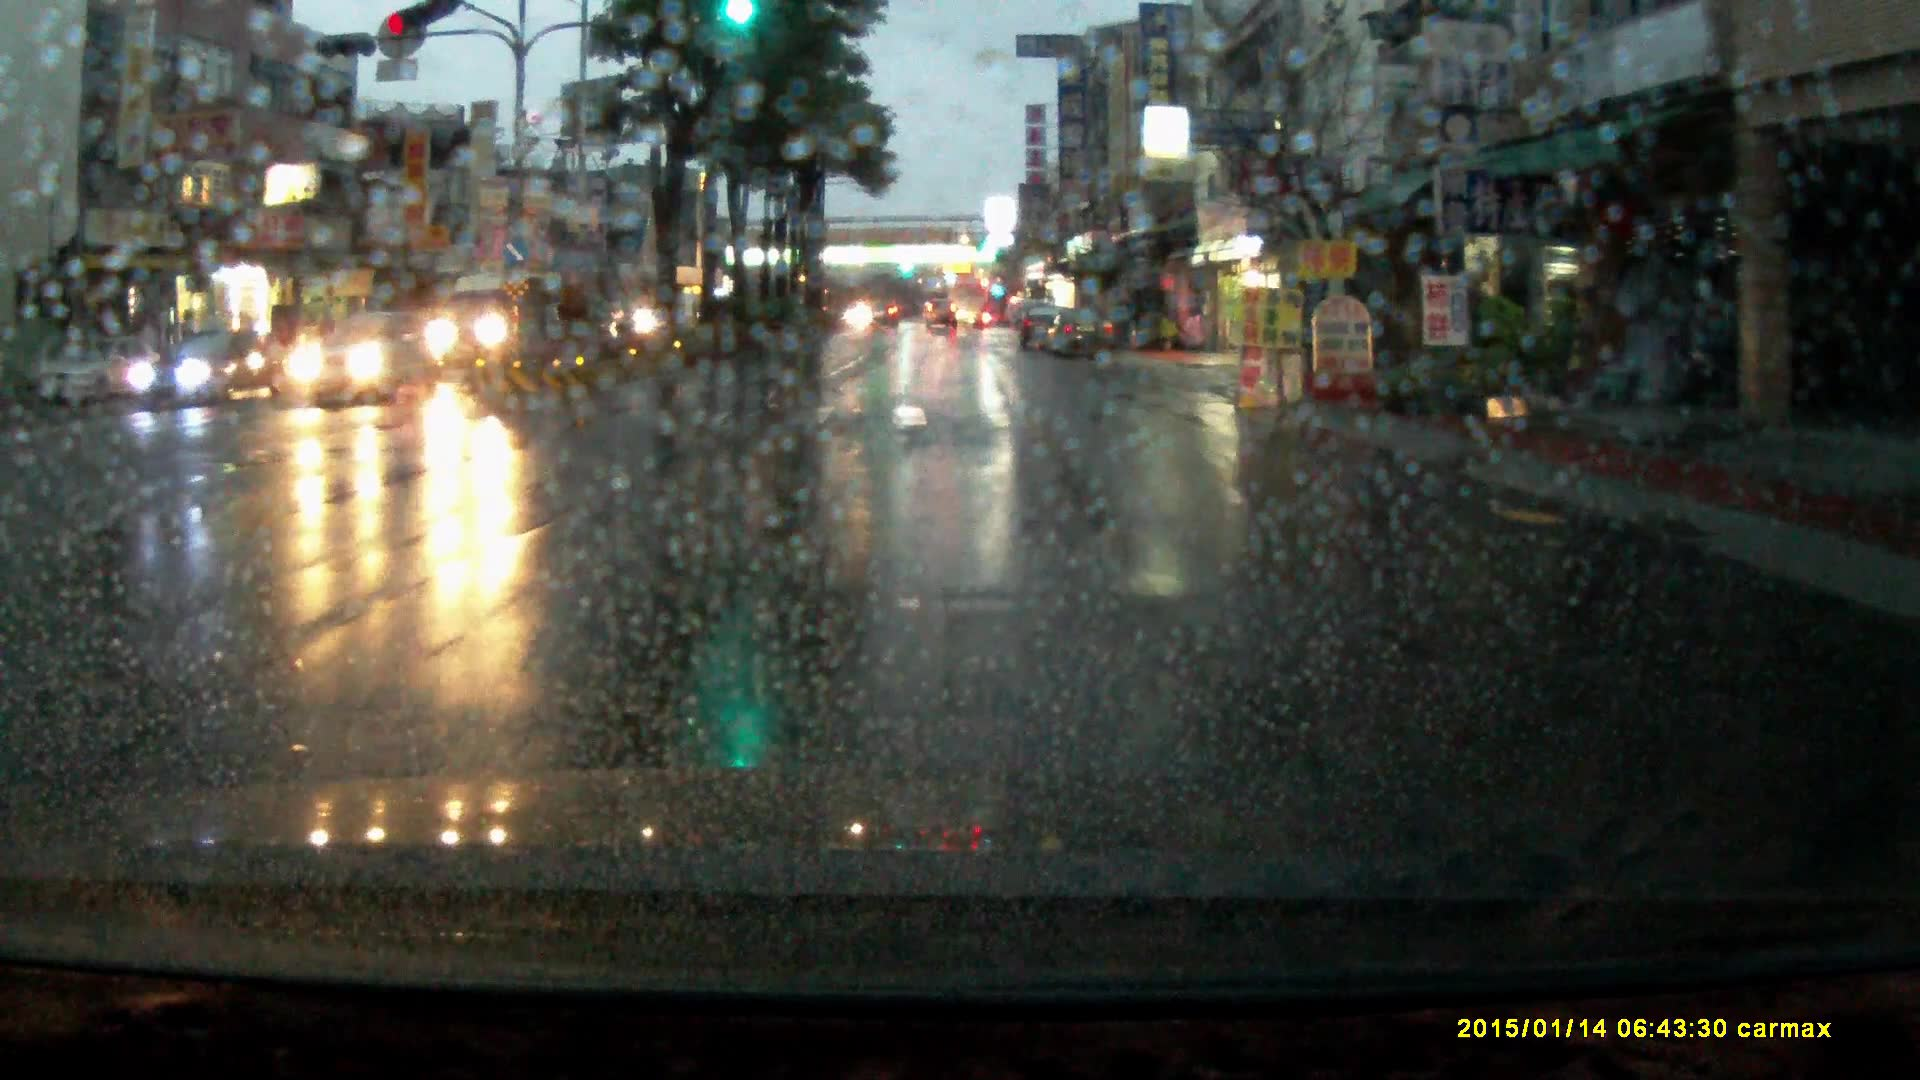vehicle: (429, 269, 560, 382), (291, 316, 438, 411), (119, 330, 272, 410), (34, 334, 170, 407), (1047, 307, 1120, 359), (1018, 305, 1065, 352), (949, 276, 988, 331), (926, 298, 959, 334), (864, 297, 899, 328)
